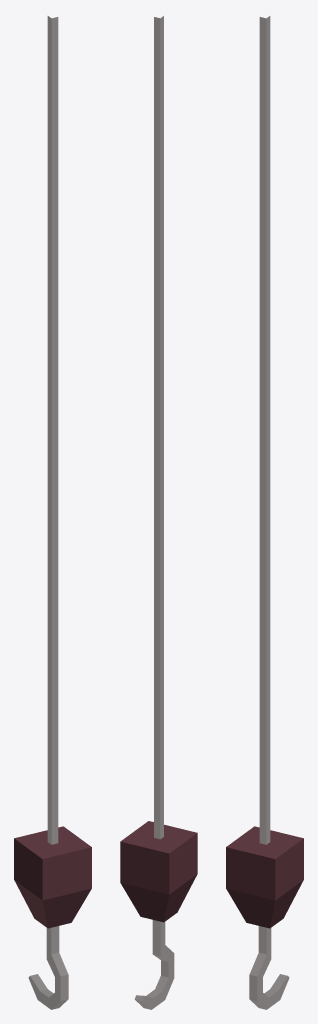
File: crane-crawler-hook.glb
The picture shows the model from 3 angles, left to right: view 1: azimuth 30°, elevation 25°; view 2: azimuth 150°, elevation 25°; view 3: azimuth 330°, elevation 25°; orthographic projection.
Parts seen in each view (by area): view 1: crane-crawler-hook; view 2: crane-crawler-hook; view 3: crane-crawler-hook.
Boxes of the visible parts, bbox=[...] form: crane-crawler-hook: bbox=[14, 16, 91, 1009]; crane-crawler-hook: bbox=[120, 16, 197, 1009]; crane-crawler-hook: bbox=[226, 16, 303, 1009].
Size of the model in its own units: 0.375 by 7.19 by 0.4587.
Materials: 2 (1 with a texture image).
